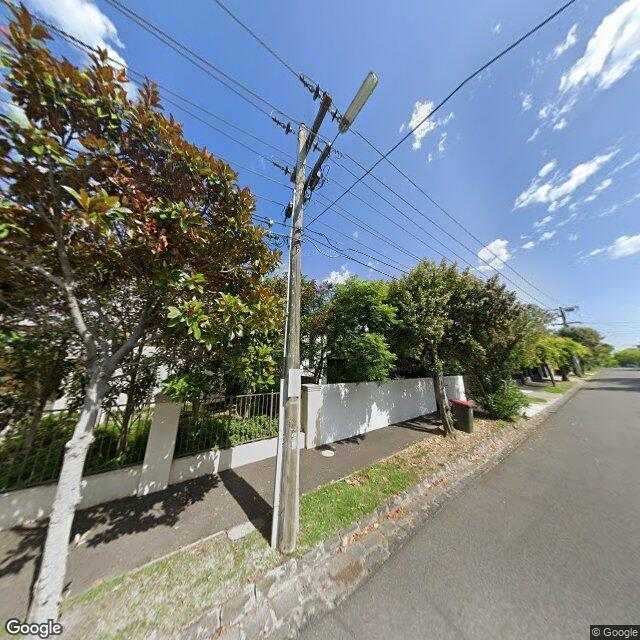HV-transmission: (270, 74, 340, 185)
crossarm: (289, 92, 333, 183), (285, 142, 332, 218), (552, 320, 583, 326), (550, 306, 580, 312)
streetlight: (329, 70, 378, 149)
timber-pole: (276, 123, 308, 554), (559, 307, 568, 327)
